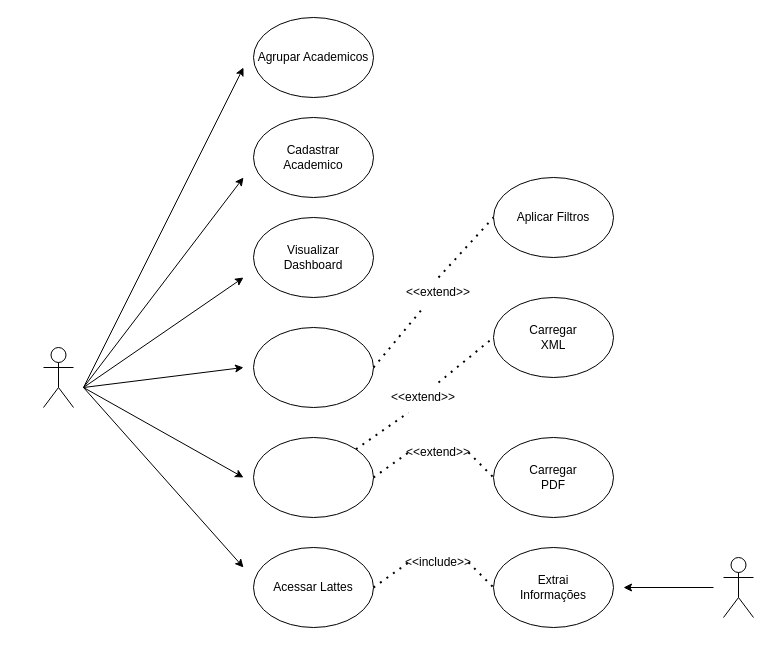
This 777x671 diagram has some shape labels left out. Here are the shapes that lost their labels. From the top down, the box of each, then its label:
(42, 346, 74, 408): Coordenadores de programa
(252, 326, 374, 408): Gerar Relatórios
(252, 436, 374, 518): Carregar Informações
(722, 556, 754, 618): Sistema
